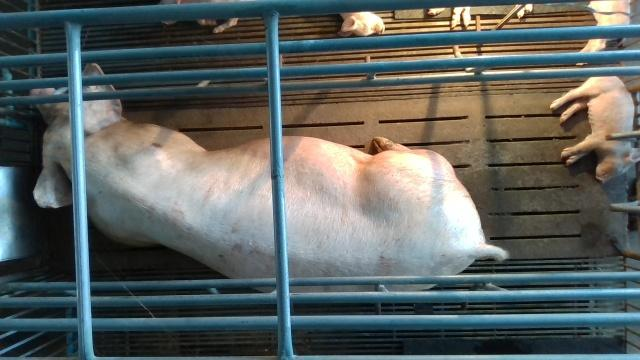piglet: (550, 76, 640, 183), (577, 0, 632, 66)
sow-sit: (30, 63, 509, 293)
